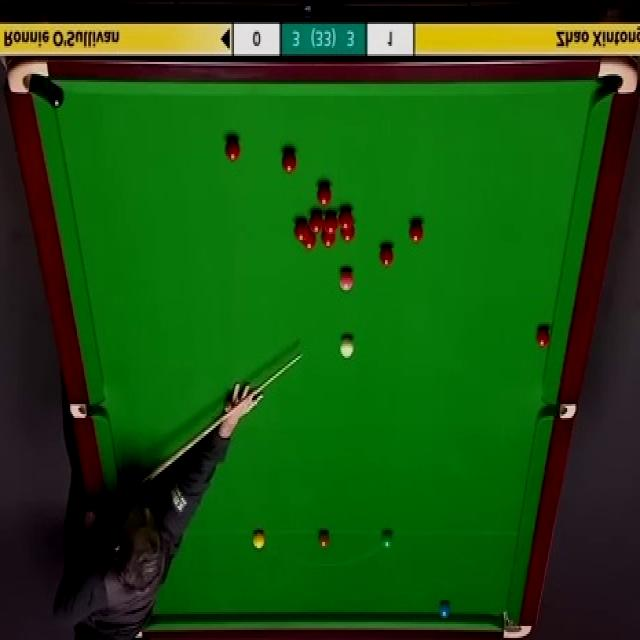pocket: (598, 57, 638, 96), (6, 61, 49, 96), (502, 608, 533, 638), (70, 400, 104, 419), (542, 399, 576, 418)
